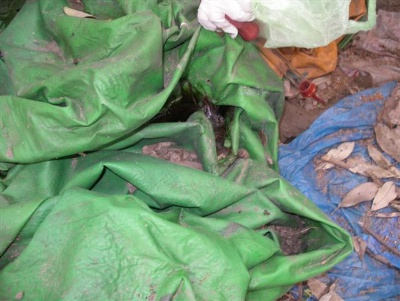plastic_bag: (2, 1, 354, 300), (279, 81, 399, 300), (253, 1, 379, 48)
